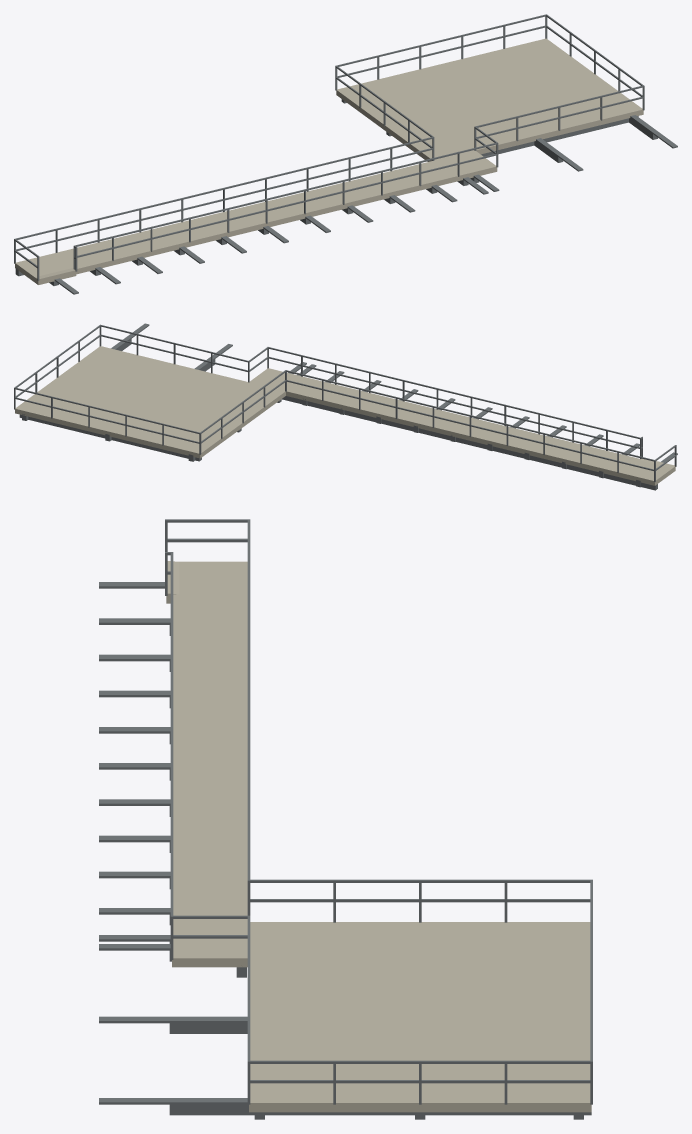
The model's file is CENTRAL_ADJUNCT_RECEIVING_FRAME_r004.glb.
The picture shows the model from 3 angles, top to bottom: view 1: azimuth 30°, elevation 25°; view 2: azimuth 150°, elevation 25°; view 3: azimuth 270°, elevation 25°; orthographic projection. The views are drawn at different scales.
Parts seen in each view (by area): view 1: Exact_source_adjunct_receiver, West_approach_strip, Edge_rail_4_1, Edge_rail_4_0, Edge_rail_7_1, Edge_rail_7_0, West_approach_landing, Underfloor_crossmember_2, Edge_rail_0_1, Edge_rail_0_0, Edge_rail_2_1, Edge_rail_2_0; view 2: Exact_source_adjunct_receiver, West_approach_strip, Outer_approach_edge_tie, Edge_rail_7_1, Edge_rail_4_1, Edge_rail_4_0, Edge_rail_7_0, West_approach_landing, Underfloor_crossmember_0, Edge_rail_0_0, Edge_rail_0_1, Edge_rail_2_1 (+1 smaller); view 3: Exact_source_adjunct_receiver, West_approach_strip, Underfloor_longitudinal_2, West_approach_landing, Edge_rail_4_1, Edge_rail_7_1, Underfloor_longitudinal_1, Edge_rail_1_1, Edge_rail_1_0, Edge_rail_8_1, Edge_rail_8_0.
Part boxes in pixels (bbox=[...]): Exact_source_adjunct_receiver: bbox=[336, 38, 643, 161]; West_approach_strip: bbox=[53, 150, 497, 274]; Edge_rail_4_1: bbox=[73, 142, 497, 246]; Edge_rail_4_0: bbox=[73, 153, 497, 257]; Edge_rail_7_1: bbox=[16, 137, 434, 239]; Edge_rail_7_0: bbox=[16, 148, 434, 250]; West_approach_landing: bbox=[15, 253, 71, 281]; Underfloor_crossmember_2: bbox=[481, 116, 638, 156]; Edge_rail_0_1: bbox=[335, 14, 546, 67]; Edge_rail_0_0: bbox=[335, 25, 545, 78]; Edge_rail_2_1: bbox=[474, 85, 643, 127]; Edge_rail_2_0: bbox=[474, 96, 644, 138]; Exact_source_adjunct_receiver: bbox=[15, 346, 285, 458]; West_approach_strip: bbox=[250, 368, 639, 477]; Outer_approach_edge_tie: bbox=[282, 396, 657, 490]; Edge_rail_7_1: bbox=[285, 370, 654, 461]; Edge_rail_4_1: bbox=[268, 347, 641, 439]; Edge_rail_4_0: bbox=[268, 357, 641, 448]; Edge_rail_7_0: bbox=[286, 380, 654, 471]; West_approach_landing: bbox=[621, 460, 672, 485]; Underfloor_crossmember_0: bbox=[19, 414, 201, 461]; Edge_rail_0_0: bbox=[14, 397, 201, 443]; Edge_rail_0_1: bbox=[14, 387, 200, 434]; Edge_rail_2_1: bbox=[100, 325, 249, 362]; Exact_source_adjunct_receiver: bbox=[249, 922, 591, 1112]; West_approach_strip: bbox=[172, 594, 247, 967]; Underfloor_longitudinal_2: bbox=[169, 1098, 591, 1115]; West_approach_landing: bbox=[179, 561, 247, 594]; Edge_rail_4_1: bbox=[170, 552, 173, 918]; Edge_rail_7_1: bbox=[247, 520, 250, 882]; Underfloor_longitudinal_1: bbox=[169, 1016, 247, 1033]; Edge_rail_1_1: bbox=[247, 1060, 592, 1063]; Edge_rail_1_0: bbox=[247, 1080, 592, 1083]; Edge_rail_8_1: bbox=[249, 879, 590, 882]; Edge_rail_8_0: bbox=[250, 899, 590, 902].
Bounding box in the file's own units: 29.96 × 1.58 × 11.53.
